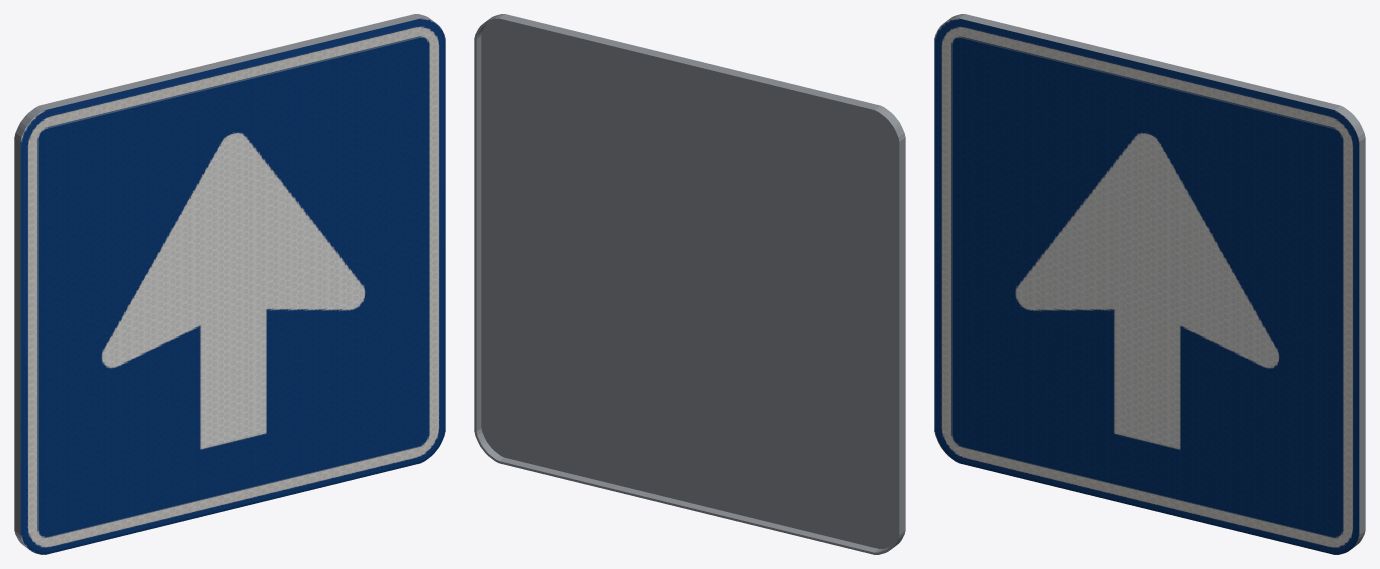
3 renders of one model, left to right at view 1: azimuth 30°, elevation 25°; view 2: azimuth 150°, elevation 25°; view 3: azimuth 330°, elevation 25°, orthographic.
Parts seen in each view (by area): view 1: cat_30655a42ec1f3dbb; view 2: cat_30655a42ec1f3dbb; view 3: cat_30655a42ec1f3dbb.
Part boxes in pixels (bbox=[...]): cat_30655a42ec1f3dbb: bbox=[14, 14, 445, 554]; cat_30655a42ec1f3dbb: bbox=[474, 14, 905, 554]; cat_30655a42ec1f3dbb: bbox=[934, 14, 1365, 554].
Bounding box in the file's own units: 0.6 × 0.015 × 0.6.
Materials: 2 (1 with a texture image).
